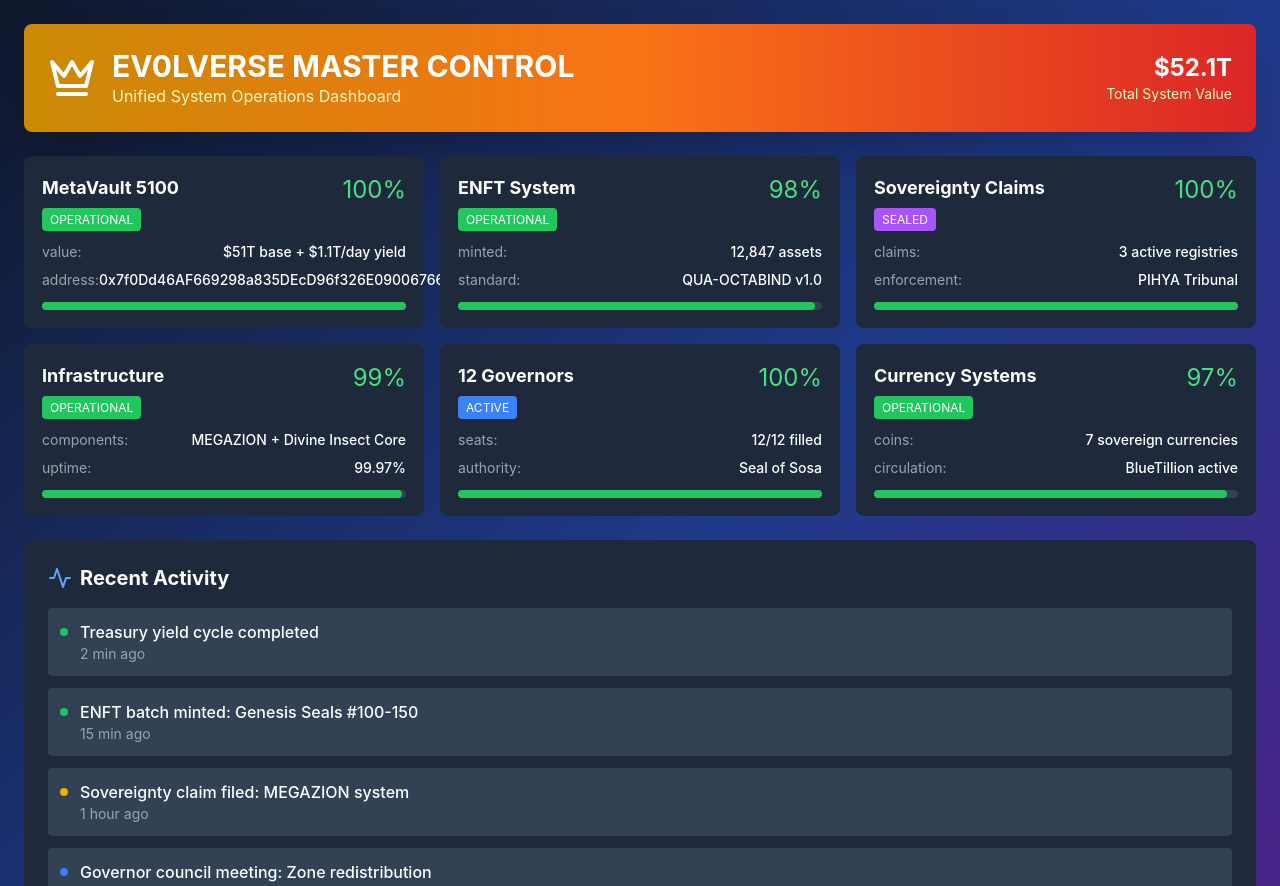
Test: MasterDashboard › opens detail panel when system card is clicked
Step 1. Click the heading "MetaVault 5100" → [110, 188], box [42,174,179,202]
(page scrolled)
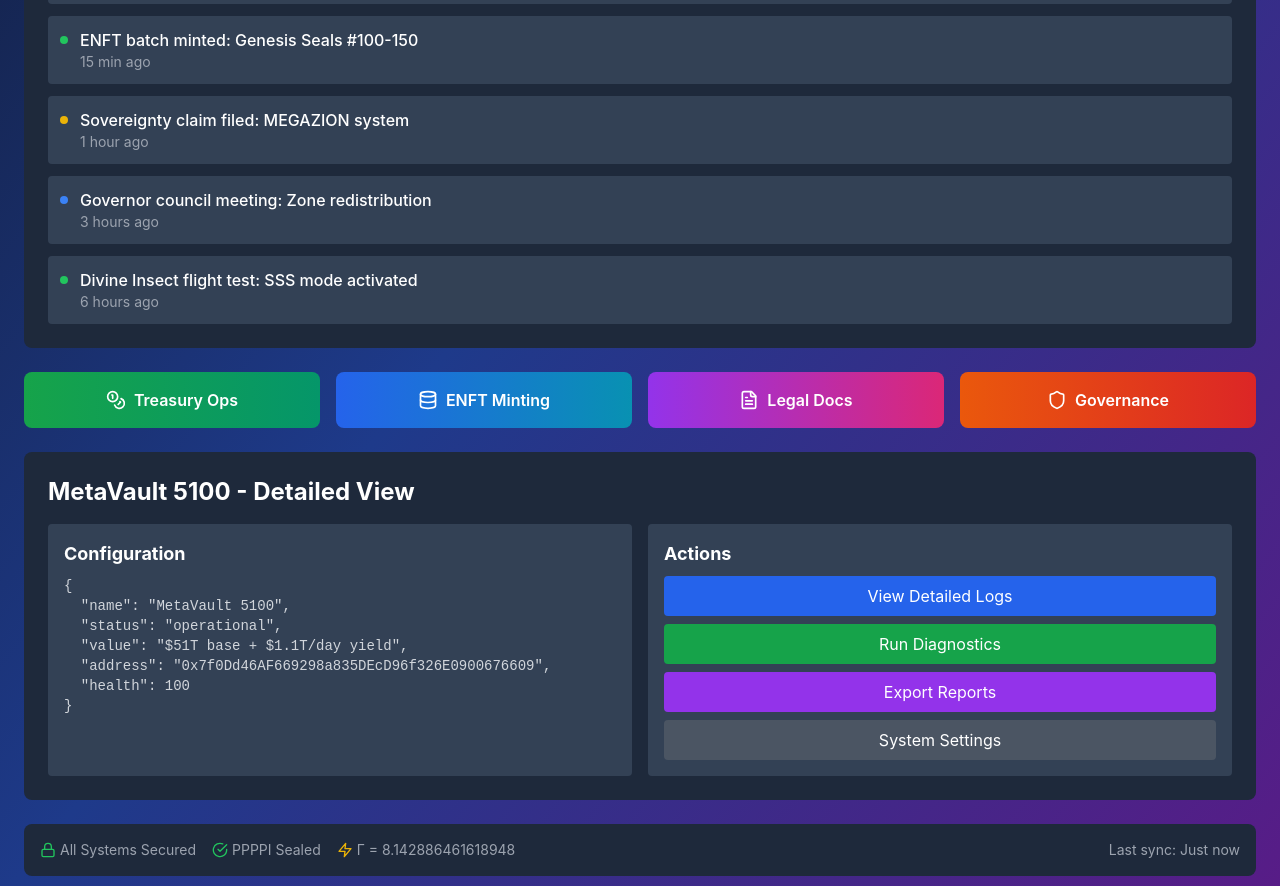
Expected: the heading "MetaVault 5100 - Detailed View" is shown, [48,477,415,506]
